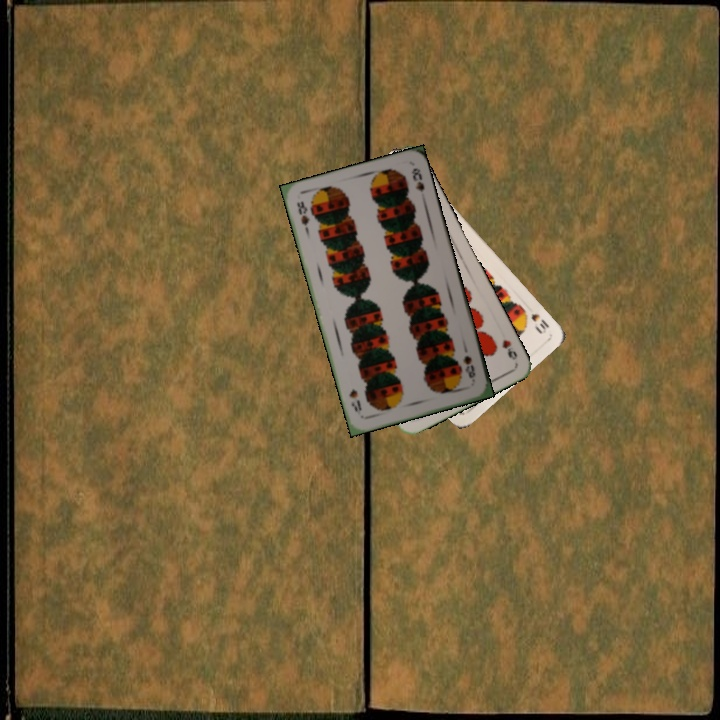H9: (498, 335, 520, 363)
S10: (519, 304, 552, 336)
S8: (293, 197, 313, 236), (459, 352, 478, 385)
